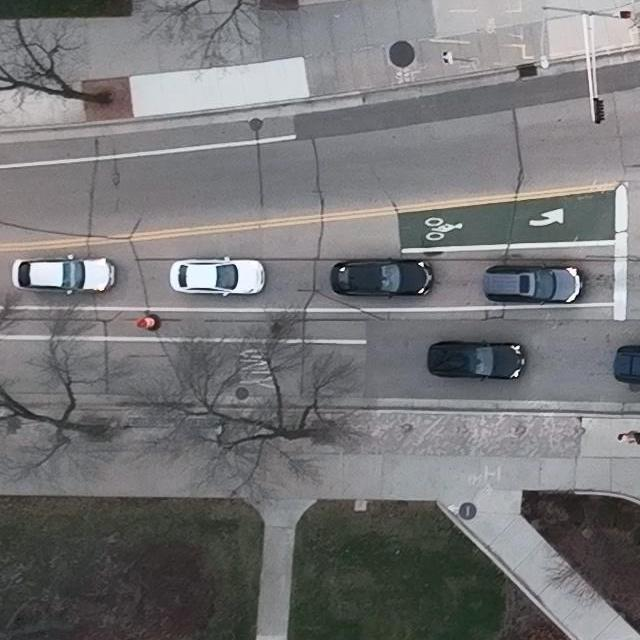car: (483, 260, 584, 306), (330, 256, 435, 300), (12, 253, 118, 294), (427, 339, 527, 382), (170, 256, 266, 297), (612, 343, 640, 384)
